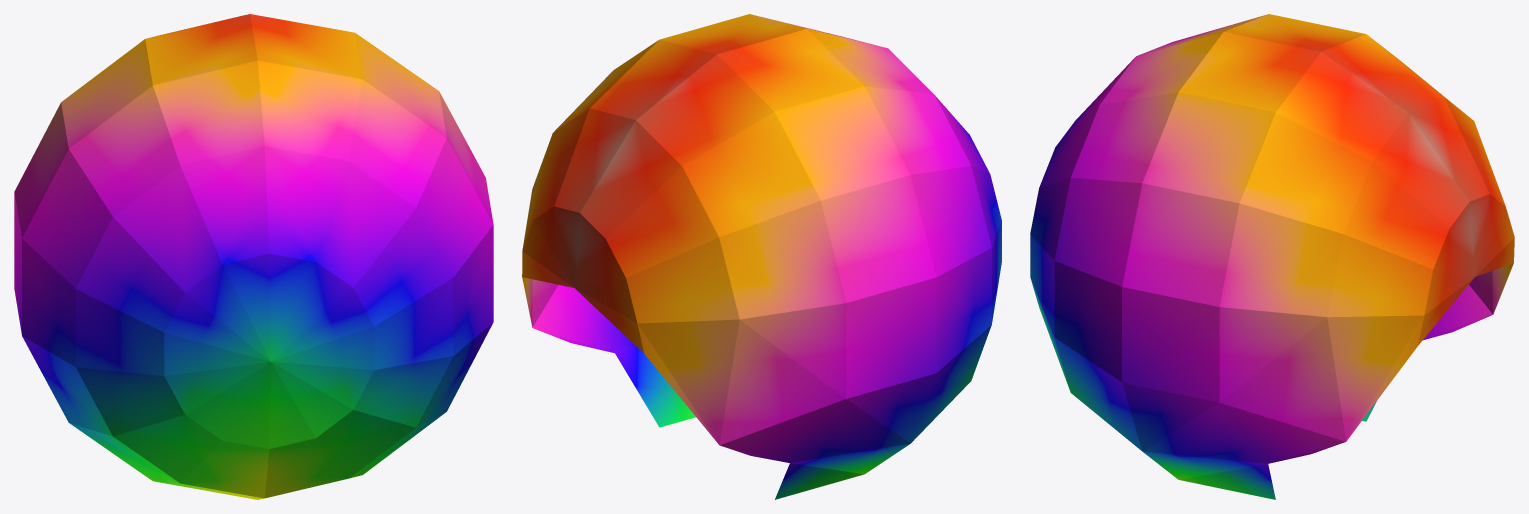
The model's file is CLOWN WIG.fbx.
3 renders of one model, left to right at view 1: azimuth 30°, elevation 25°; view 2: azimuth 150°, elevation 25°; view 3: azimuth 270°, elevation 25°, orthographic. The views are drawn at different scales.
Visible parts, largest first — view 1: CLOWN_WIG; view 2: CLOWN_WIG; view 3: CLOWN_WIG.
Part boxes in pixels (box(x1,y1,x2,y2)): CLOWN_WIG: box(14, 14, 493, 499); CLOWN_WIG: box(522, 14, 1001, 499); CLOWN_WIG: box(1030, 14, 1514, 499).
Bounding box in the file's own units: 32.19 × 32.74 × 33.42.
